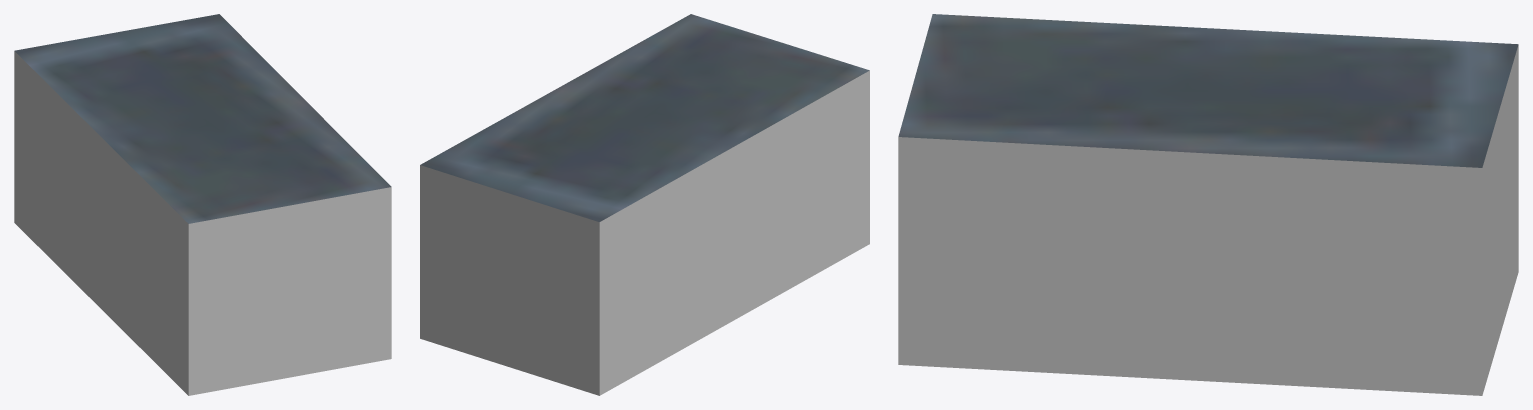
File: DEBW_0010007Tx4j.gltf
3 renders of one model, left to right at view 1: azimuth 30°, elevation 25°; view 2: azimuth 150°, elevation 25°; view 3: azimuth 270°, elevation 25°, orthographic. The views are drawn at different scales.
Visible parts, largest first — view 1: Z_UP; view 2: Z_UP; view 3: Z_UP.
Boxes of the visible parts, x1,y1,x2,y2 form: Z_UP: (14, 14, 391, 395); Z_UP: (420, 14, 869, 395); Z_UP: (898, 14, 1518, 395).
Size of the model in its own units: 3.62 by 2.5 by 6.16.
2 materials, 1 textured.
